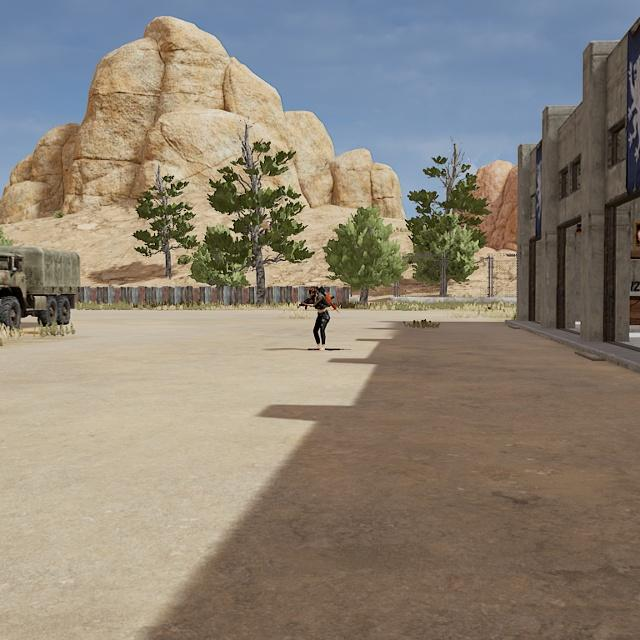head: (308, 287, 319, 298)
people: (307, 287, 332, 352)
